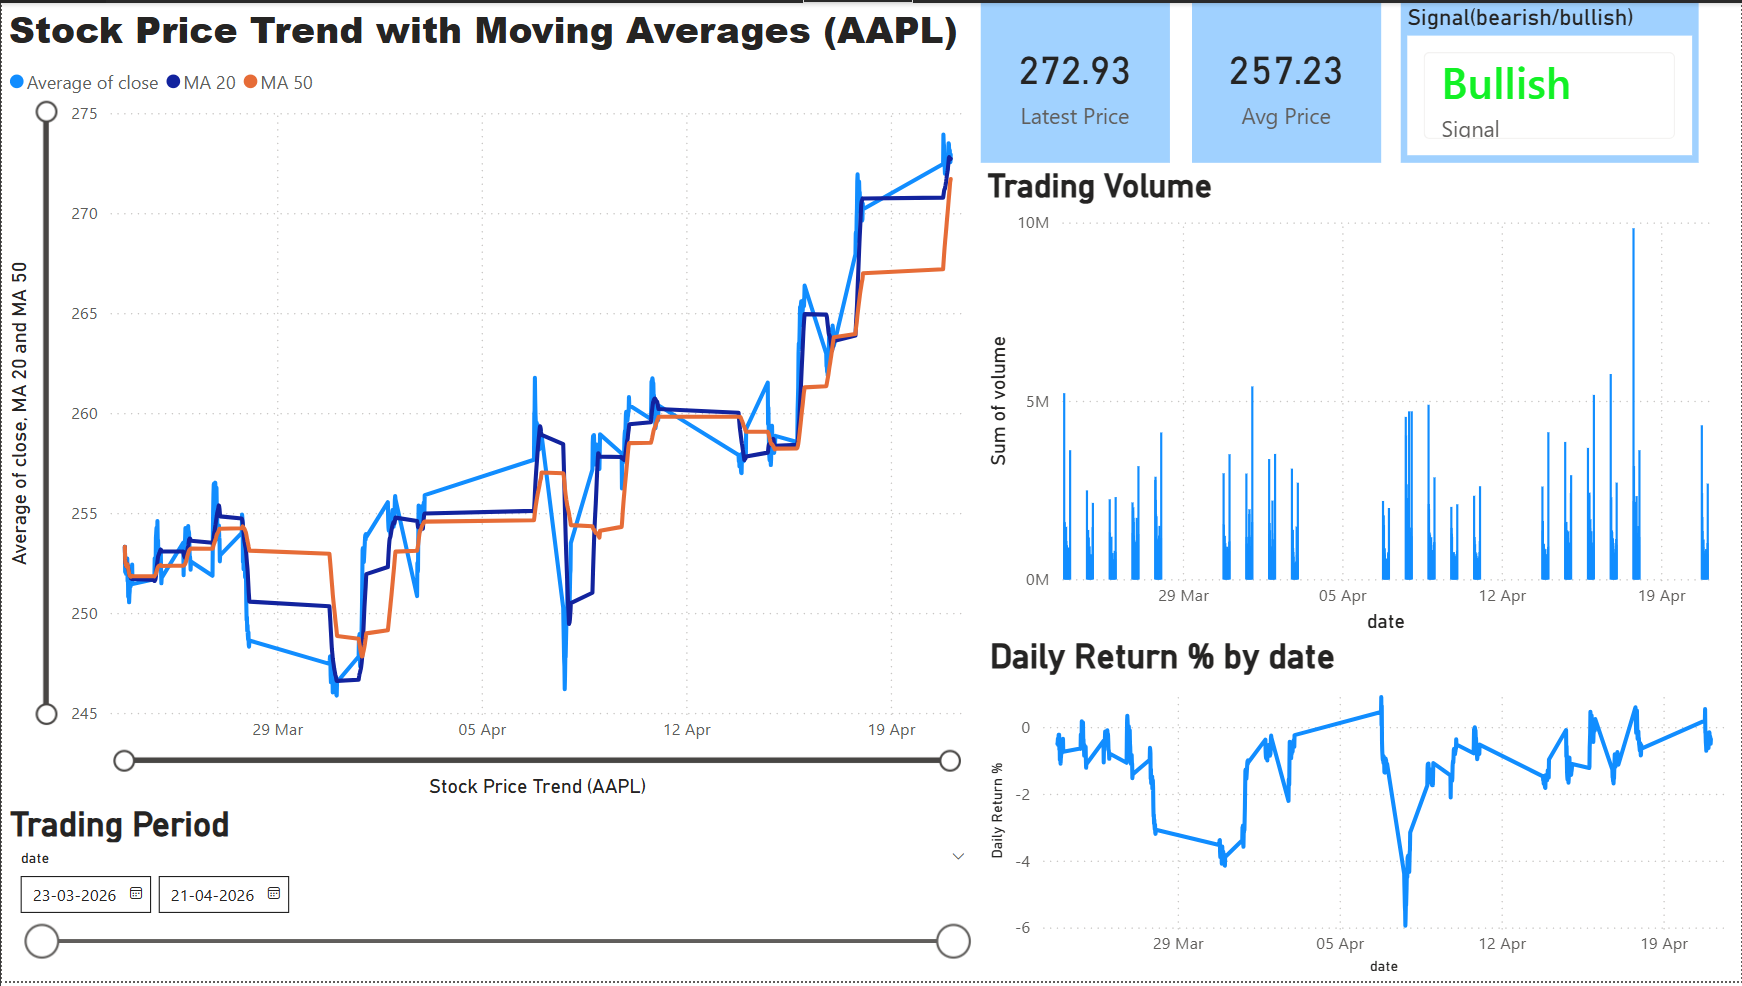

The page's visual inventory and layout, read from the dashboard file:
{"tool":"powerbi","page":{"name":"Page 1","canvas":[1280,720],"ordinal":0},"visuals":[{"type":"lineChart","title":"Stock Price Trend with Moving Averages (AAPL)","fields":{"Category":["public stock_prices.date"],"Y":["Avg(public stock_prices.close)","public stock_prices.MA 20","public stock_prices.MA 50"]},"box":[0,0,720.7,589.3],"z":0},{"type":"card","fields":{"Values":["public stock_prices.Latest Price"]},"box":[720.3,0,139,117.6],"z":1000},{"type":"card","fields":{"Values":["public stock_prices.Avg Price"]},"box":[875.3,0,139,117.6],"z":2000},{"type":"clusteredColumnChart","title":"Trading Volume","fields":{"Y":["Sum(public stock_prices.volume)"],"Category":["public stock_prices.date"]},"box":[720.3,120.3,560,347.5],"z":3000},{"type":"slicer","title":"Trading Period","fields":{"Values":["public stock_prices.date"]},"box":[1.3,589.4,720.3,131],"z":4000},{"type":"lineChart","fields":{"Y":["public stock_prices.Daily Return %"],"Category":["public stock_prices.date"]},"box":[721.7,466.4,558.6,253.9],"z":4001},{"type":"cardVisual","title":"Signal(bearish/bullish)","fields":{"Data":["public stock_prices.Signal"]},"box":[1029,0,219.2,117.6],"z":4002}]}

Visuals, with their boxes in screenshot pixels (x1, y1, x2, y2), scaled from the page's 1280x720 canvas onto the 1742x986 screenshot:
"Stock Price Trend with Moving Averages (AAPL)" lineChart: bbox=(0, 0, 981, 807)
card - public stock_prices.Latest Price: bbox=(980, 0, 1169, 161)
card - public stock_prices.Avg Price: bbox=(1191, 0, 1380, 161)
"Trading Volume" clusteredColumnChart: bbox=(980, 165, 1741, 641)
"Trading Period" slicer: bbox=(2, 807, 982, 985)
lineChart - public stock_prices.Daily Return % x public stock_prices.date: bbox=(982, 639, 1741, 985)
"Signal(bearish/bullish)" cardVisual: bbox=(1400, 0, 1699, 161)
